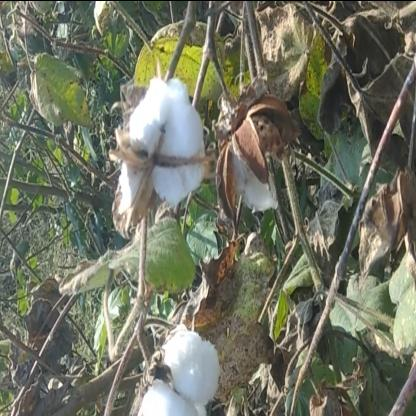cotton_ready: (112, 59, 214, 233)
